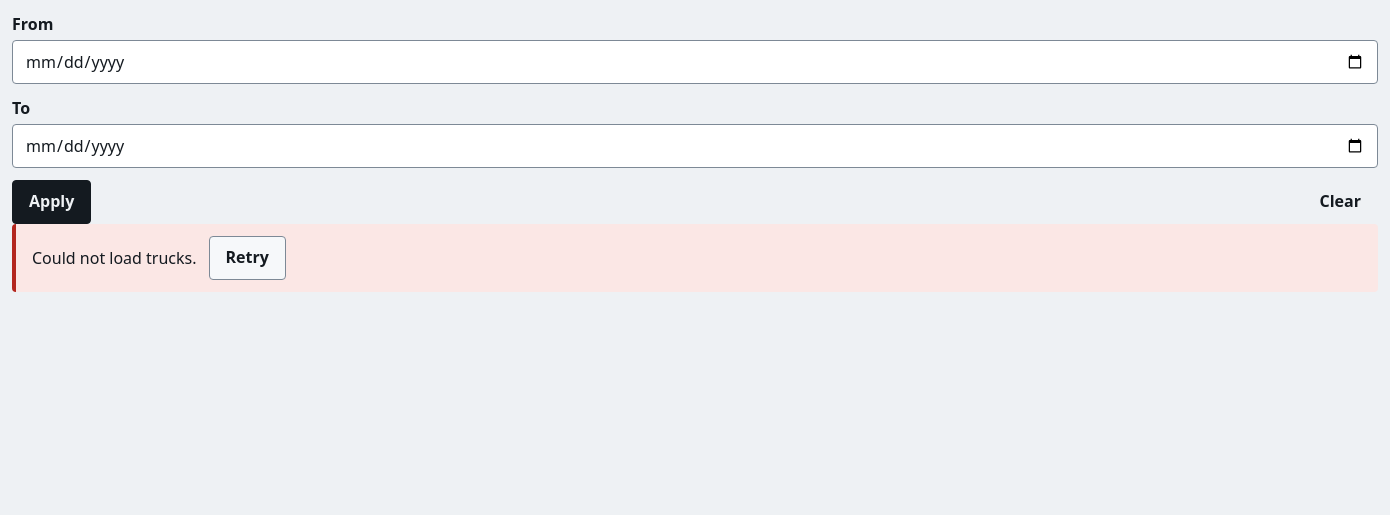
Test case: a server error shows a retry banner that refetches
Check: the message "Could not load trucks. Retry" is shown, box [12,224,1378,292]
Click the button "Retry". click: (247, 258)
box: [208,236,286,280]
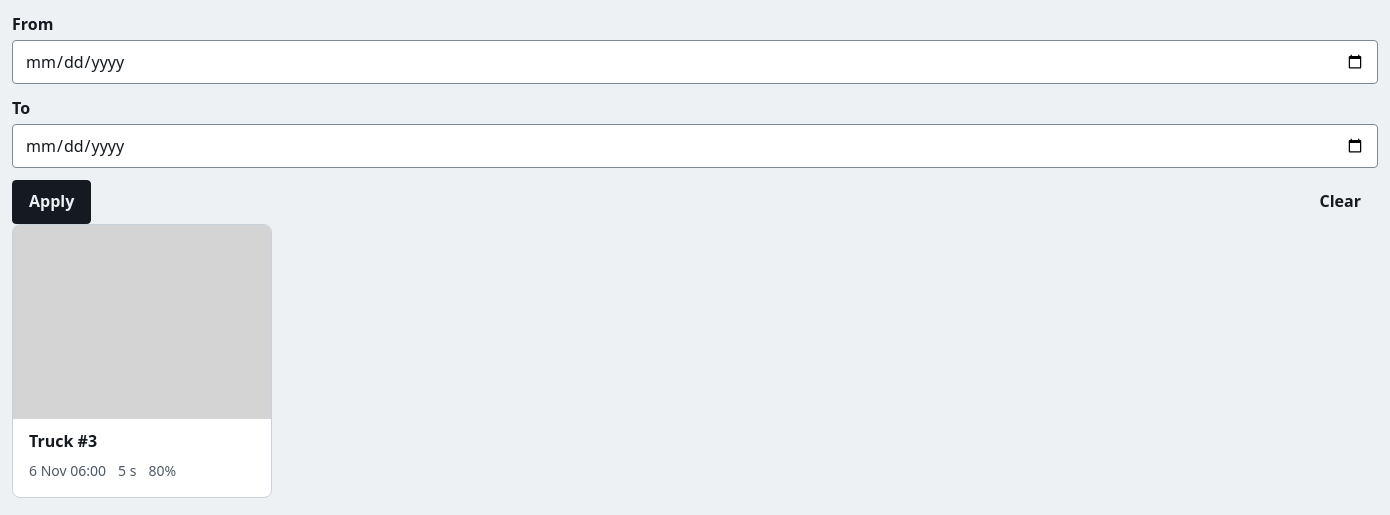
Check: the text "Truck #3" is shown, box [29,430,97,452]
